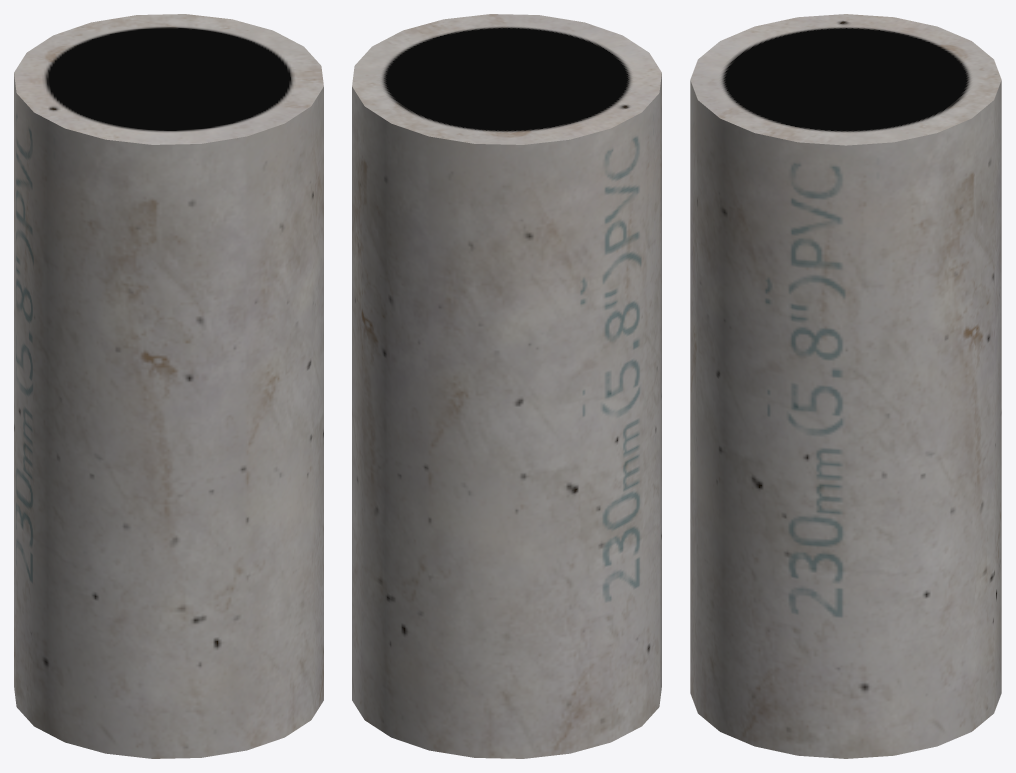
File: PlasticPipe_10a_snaps019.fbx
3 renders of one model, left to right at view 1: azimuth 30°, elevation 25°; view 2: azimuth 150°, elevation 25°; view 3: azimuth 270°, elevation 25°, orthographic.
Parts seen in each view (by area): view 1: PlasticPipe_10a_snaps019_LOD0; view 2: PlasticPipe_10a_snaps019_LOD0; view 3: PlasticPipe_10a_snaps019_LOD0.
Boxes of the visible parts, x1=… form: PlasticPipe_10a_snaps019_LOD0: x1=14, y1=14, x2=323, y2=758; PlasticPipe_10a_snaps019_LOD0: x1=352, y1=14, x2=661, y2=758; PlasticPipe_10a_snaps019_LOD0: x1=690, y1=14, x2=1001, y2=758.
Size of what is drawn, in the model's own units: 23 by 50 by 23.
